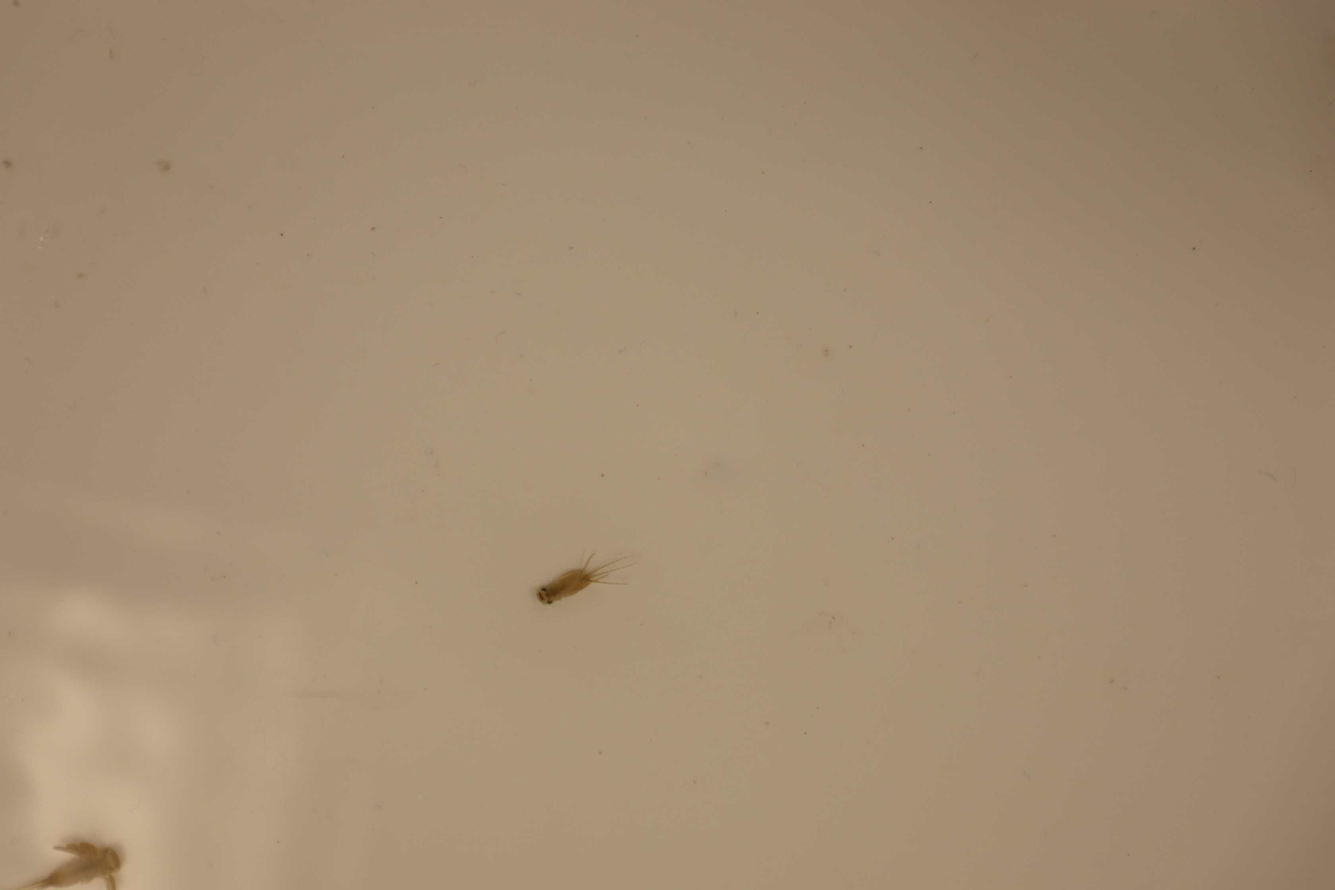Mayfly: (0, 831, 124, 890), (531, 546, 624, 610)
